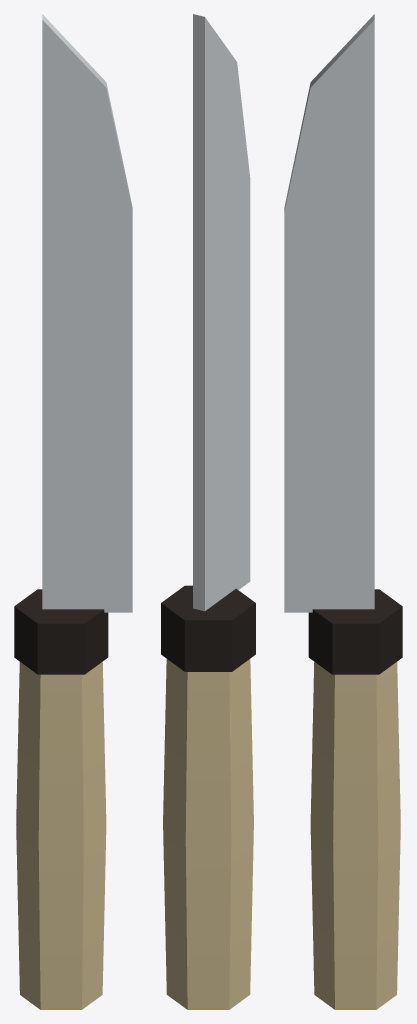
File: sushi-knife.glb
The picture shows the model from 3 angles, left to right: view 1: azimuth 90°, elevation 25°; view 2: azimuth 150°, elevation 25°; view 3: azimuth 270°, elevation 25°; orthographic projection.
Visible parts, largest first — view 1: sushi-knife; view 2: sushi-knife; view 3: sushi-knife.
Part boxes in pixels (x1,y1,x2,y2): sushi-knife: (14,14,132,1009); sushi-knife: (161,14,255,1009); sushi-knife: (284,14,402,1009).
Size of the model in its own units: 0.0217 by 0.287 by 0.0315.
